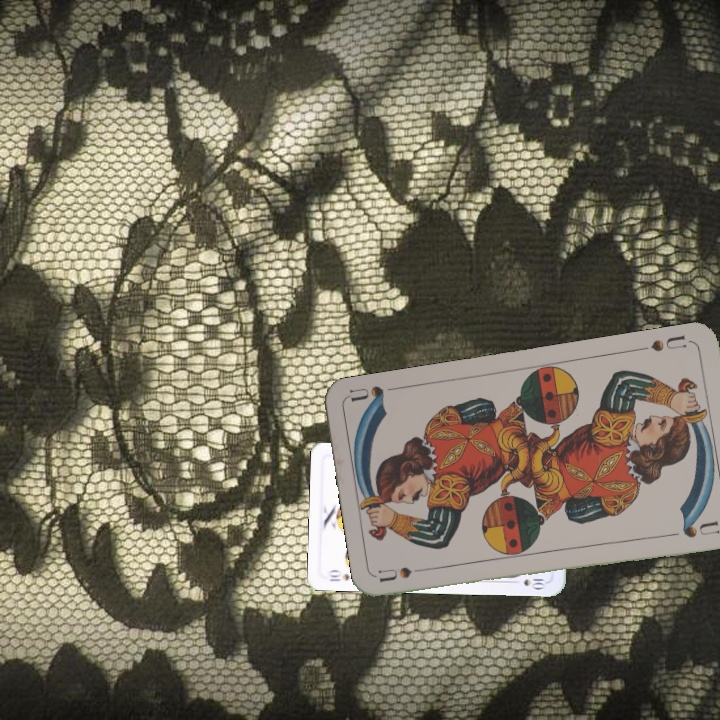S10: (325, 566, 352, 584)
SU: (634, 331, 693, 354), (376, 563, 435, 585)
